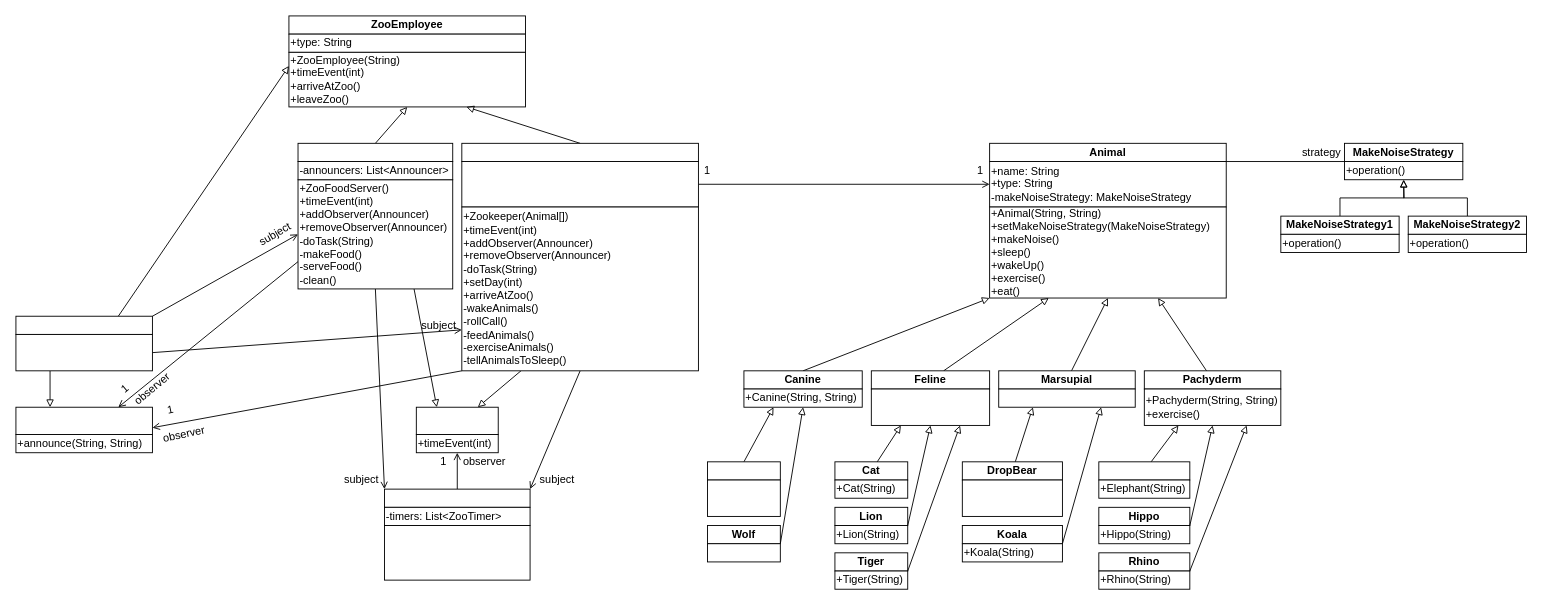
Some shapes in this 1542 by 605 pixel diagram are drawn without their labels. The shapes that lost their labels are listed below. From the top down, each one's box as (x1, y1, x2, y2) in pixels, then its label:
(297, 142, 453, 162): ZooFoodServer
(461, 142, 698, 162): Zookeeper
(461, 161, 698, 207): -announcers: List<Announcer> -day: int -animals: Animal[]
(15, 315, 152, 334): ZooAnnouncer
(15, 334, 152, 371): +ZooAnnouncer() +announce(String, String)
(870, 388, 990, 425): +Feline(String, String) +sleep()
(998, 388, 1135, 407): +Marsupial(String, String)
(15, 406, 152, 435): Announcer <<Interface>>
(415, 406, 498, 435): ZooTimer <<Interface>>
(707, 461, 780, 480): Dog
(1098, 461, 1190, 480): Elephant
(384, 488, 530, 507): ZooClock
(707, 479, 780, 516): +Dog(String) +exercise()
(961, 479, 1062, 516): +DropBear(String) +eat()
(384, 525, 530, 580): +addObserver(ZooTimer) +removeObserver(ZooTimer) -stepTime(int) +runClock()
(707, 543, 780, 562): +Wolf(String)
